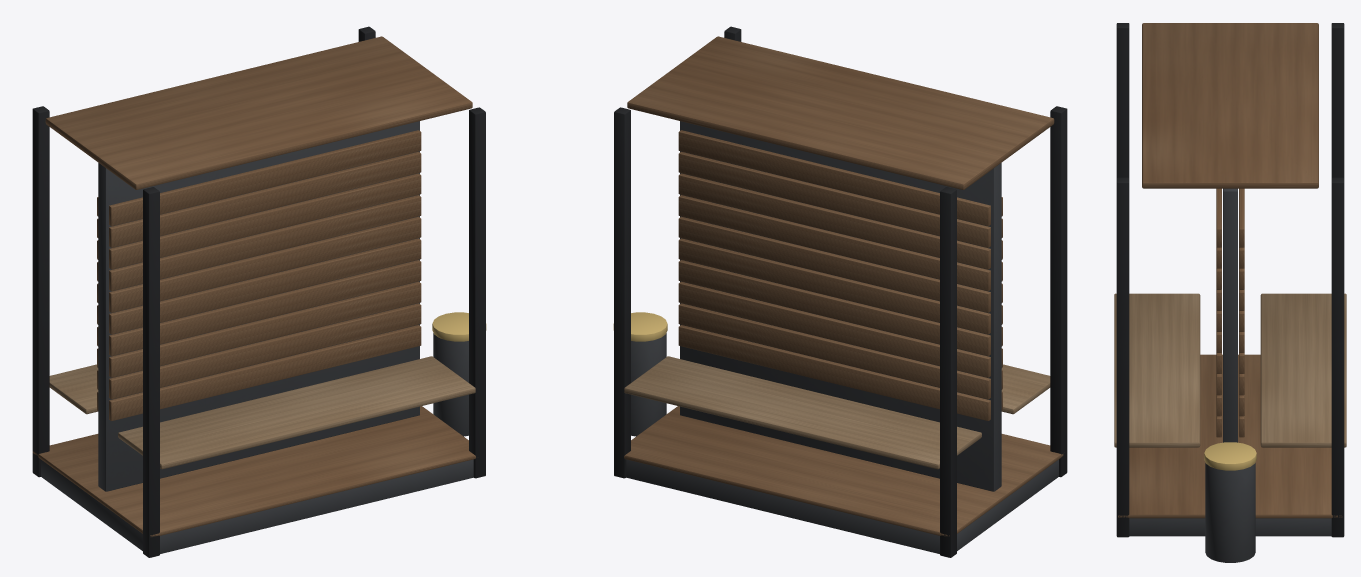
File: pf_fixture_freestanding_gondola.glb
3 renders of one model, left to right at view 1: azimuth 30°, elevation 25°; view 2: azimuth 150°, elevation 25°; view 3: azimuth 270°, elevation 25°, orthographic. The views are drawn at different scales.
Visible parts, largest first — view 1: pf_fixture_freestanding_gondola_body; view 2: pf_fixture_freestanding_gondola_body; view 3: pf_fixture_freestanding_gondola_body.
Part boxes in pixels (left/top/right/bottom): pf_fixture_freestanding_gondola_body: left=32, top=26, right=486, bottom=557; pf_fixture_freestanding_gondola_body: left=613, top=26, right=1067, bottom=557; pf_fixture_freestanding_gondola_body: left=1114, top=23, right=1346, bottom=562.
Size of the model in its own units: 1.82 by 1.55 by 0.92.
Materials: 6 (4 with a texture image).
